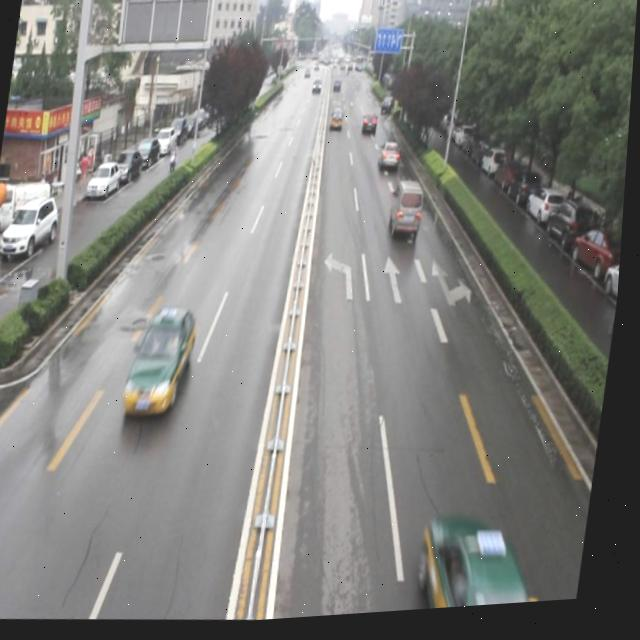car: (417, 507, 558, 616), (125, 305, 205, 418), (377, 141, 404, 176), (361, 113, 381, 139), (328, 109, 345, 137), (380, 99, 397, 120)
truck: (388, 181, 429, 246)
